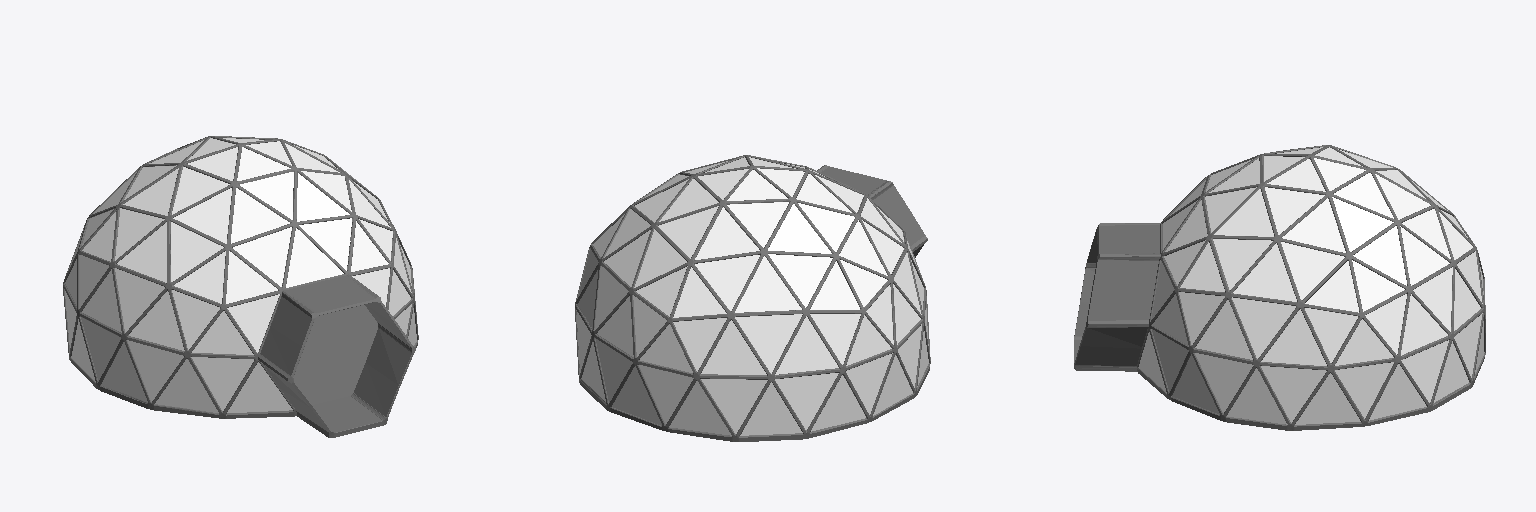
File: mars_greenhouse.obj
The picture shows the model from 3 angles: view 1: azimuth 30°, elevation 25°; view 2: azimuth 150°, elevation 25°; view 3: azimuth 270°, elevation 25°; orthographic projection.
Parts seen in each view (by area): view 1: panels, structure, dome_tunnel, floor; view 2: panels, structure, dome_tunnel; view 3: panels, structure, dome_tunnel.
Boxes of the visible parts, x1=… form: panels: x1=65, y1=138, x2=416, y2=412; structure: x1=63, y1=136, x2=418, y2=418; dome_tunnel: x1=258, y1=274, x2=415, y2=437; floor: x1=294, y1=305, x2=377, y2=404; panels: x1=576, y1=157, x2=928, y2=435; structure: x1=575, y1=155, x2=930, y2=441; dome_tunnel: x1=817, y1=165, x2=927, y2=257; panels: x1=1139, y1=147, x2=1484, y2=424; structure: x1=1137, y1=145, x2=1485, y2=430; dome_tunnel: x1=1074, y1=223, x2=1160, y2=371.
Bounding box in the file's own units: 42.21 × 26.44 × 49.16.